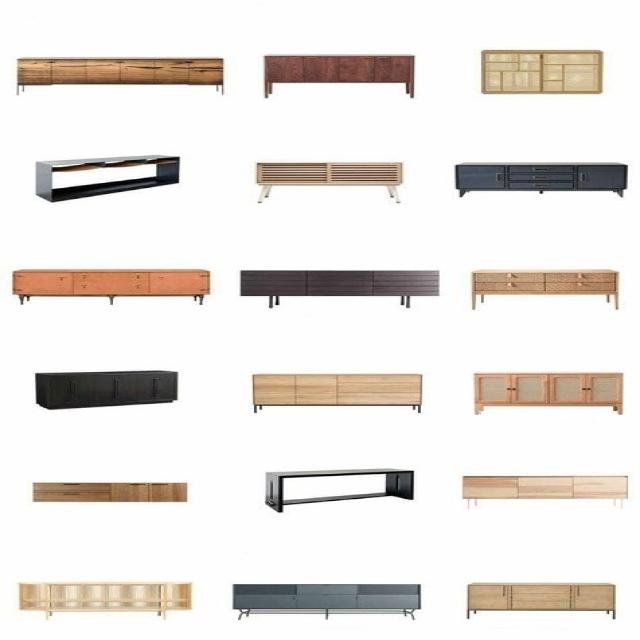obstacle: (238, 268, 440, 308), (15, 57, 223, 95), (16, 580, 197, 622), (12, 268, 210, 305), (34, 154, 178, 202), (262, 54, 414, 98), (252, 373, 422, 412), (264, 468, 412, 512), (472, 371, 622, 414), (453, 162, 627, 198), (469, 268, 618, 310), (34, 370, 178, 409), (465, 582, 616, 619), (31, 482, 187, 502)
